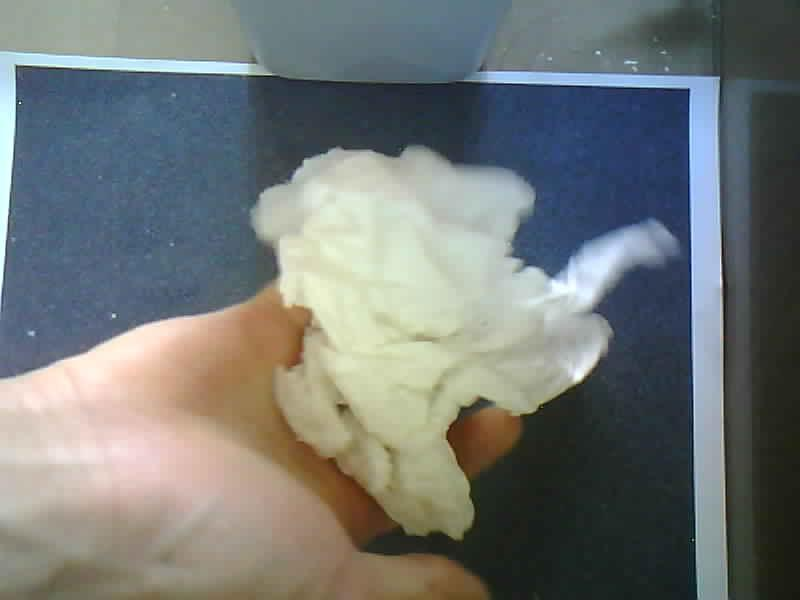paper: (253, 147, 678, 539)
